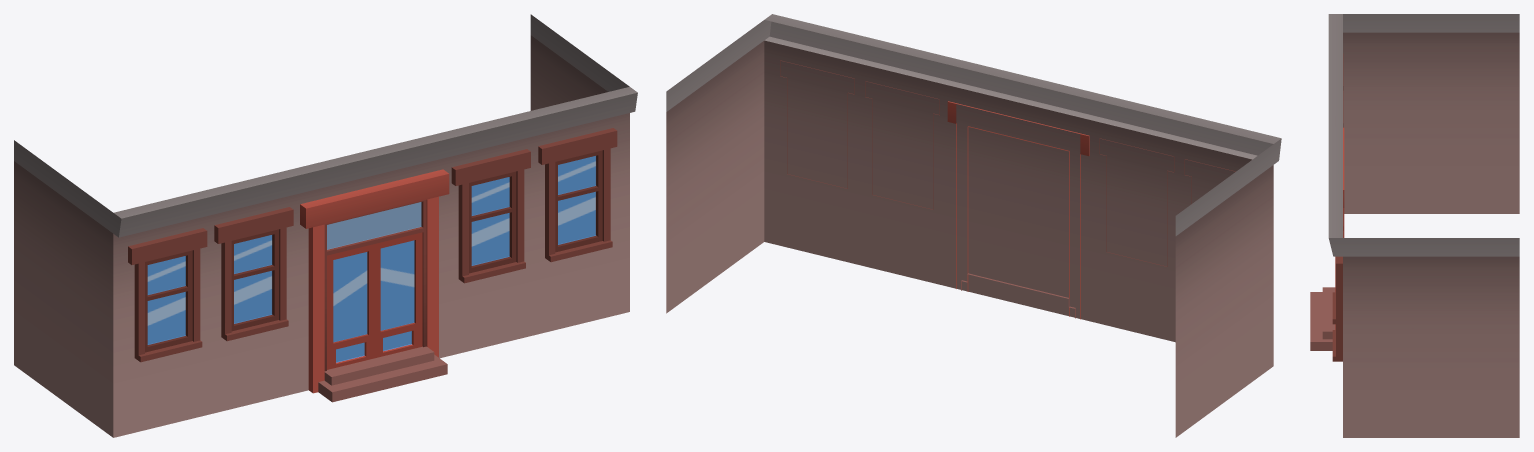
The model's file is Build2_1F.FBX.
3 views of the same model, side by side, from view 1: azimuth 30°, elevation 25°; view 2: azimuth 150°, elevation 25°; view 3: azimuth 270°, elevation 25° (orthographic). The views are drawn at different scales.
Visible parts, largest first — view 1: Build02_1F; view 2: Build02_1F; view 3: Build02_1F.
Part boxes in pixels (x1=…): Build02_1F: x1=14, y1=14, x2=637, y2=437; Build02_1F: x1=666, y1=14, x2=1281, y2=437; Build02_1F: x1=1310, y1=14, x2=1519, y2=437.
Bounding box in the file's own units: 6 × 2.5 × 2.37.
